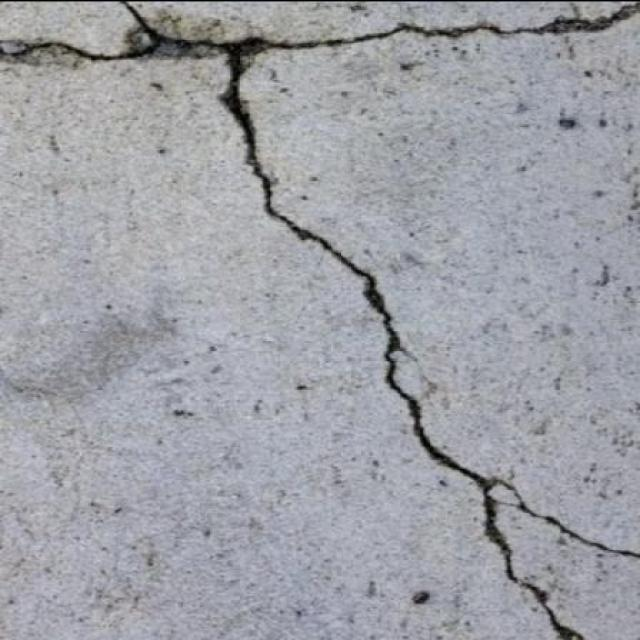Crack: (0, 0, 640, 581), (521, 581, 587, 640)
